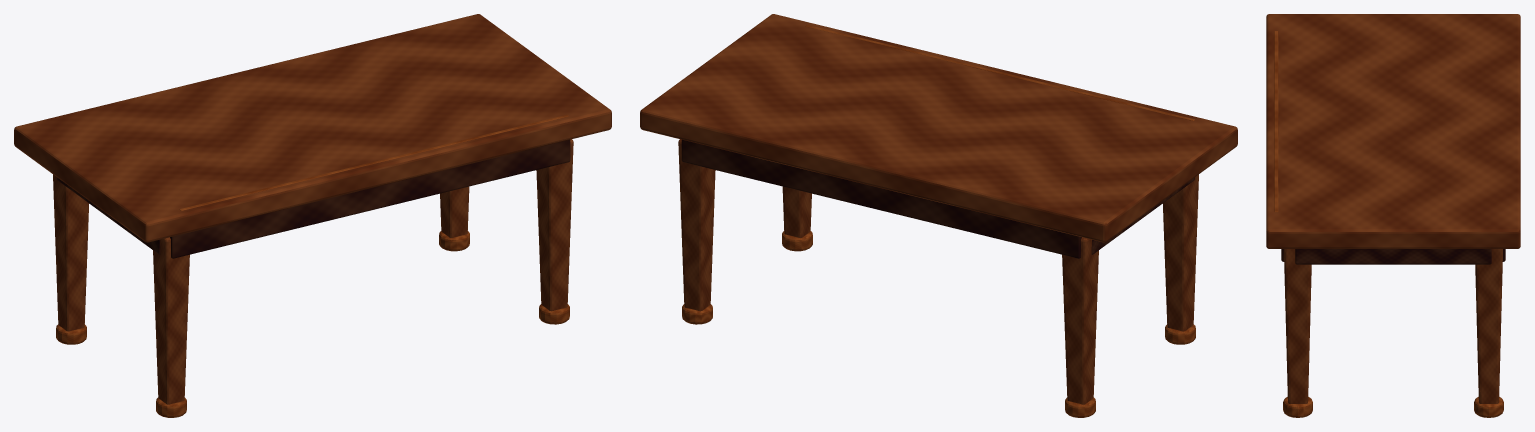
File: dining-table-pbr-v1.glb
3 renders of one model, left to right at view 1: azimuth 30°, elevation 25°; view 2: azimuth 150°, elevation 25°; view 3: azimuth 270°, elevation 25°, orthographic. The views are drawn at different scales.
Visible parts, largest first — view 1: dining-oak-top, dining-shadow-apron-front, dining-tapered-oak-leg, dining-tapered-oak-leg.002, dining-tapered-oak-leg.001, dining-tapered-oak-leg.003, dining-brass-inlay; view 2: dining-oak-top, dining-shadow-apron-back, dining-tapered-oak-leg.001, dining-tapered-oak-leg.003, dining-tapered-oak-leg, dining-tapered-oak-leg.002, dining-brass-inlay; view 3: dining-oak-top, dining-tapered-oak-leg.002, dining-tapered-oak-leg.003, dining-shadow-apron-right, dining-brass-inlay, dining-brass-foot.002, dining-brass-foot.003.
Boxes of the visible parts, bbox=[...] form: dining-oak-top: bbox=[14, 14, 611, 242]; dining-shadow-apron-front: bbox=[170, 139, 570, 258]; dining-tapered-oak-leg: bbox=[153, 237, 189, 404]; dining-tapered-oak-leg.002: bbox=[536, 139, 573, 311]; dining-tapered-oak-leg.001: bbox=[53, 174, 89, 331]; dining-tapered-oak-leg.003: bbox=[440, 186, 469, 237]; dining-brass-inlay: bbox=[179, 114, 568, 210]; dining-oak-top: bbox=[640, 14, 1237, 242]; dining-shadow-apron-back: bbox=[681, 139, 1081, 258]; dining-tapered-oak-leg.001: bbox=[1062, 237, 1098, 404]; dining-tapered-oak-leg.003: bbox=[678, 139, 715, 311]; dining-tapered-oak-leg: bbox=[1162, 174, 1198, 331]; dining-tapered-oak-leg.002: bbox=[782, 186, 811, 237]; dining-brass-inlay: bbox=[805, 25, 1194, 120]; dining-oak-top: bbox=[1266, 14, 1520, 248]; dining-tapered-oak-leg.002: bbox=[1284, 249, 1311, 403]; dining-tapered-oak-leg.003: bbox=[1475, 249, 1502, 403]; dining-shadow-apron-right: bbox=[1295, 249, 1491, 264]; dining-brass-inlay: bbox=[1274, 31, 1278, 212]; dining-brass-foot.002: bbox=[1283, 397, 1312, 417]; dining-brass-foot.003: bbox=[1474, 397, 1503, 417].
Bounding box in the file's own units: 1.78 × 0.771 × 0.88.
3 materials, 3 textured.
